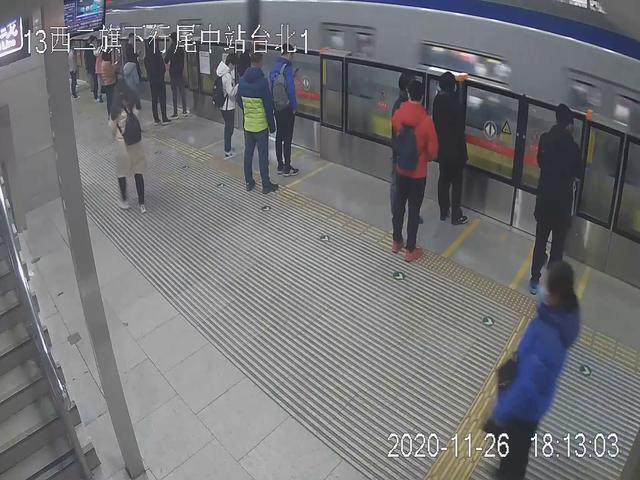person: (496, 259, 578, 480), (529, 100, 583, 300), (391, 80, 429, 261), (433, 71, 474, 223), (237, 52, 277, 200), (110, 79, 151, 217), (271, 41, 301, 179), (214, 49, 244, 161), (144, 39, 168, 124), (164, 30, 187, 113)
